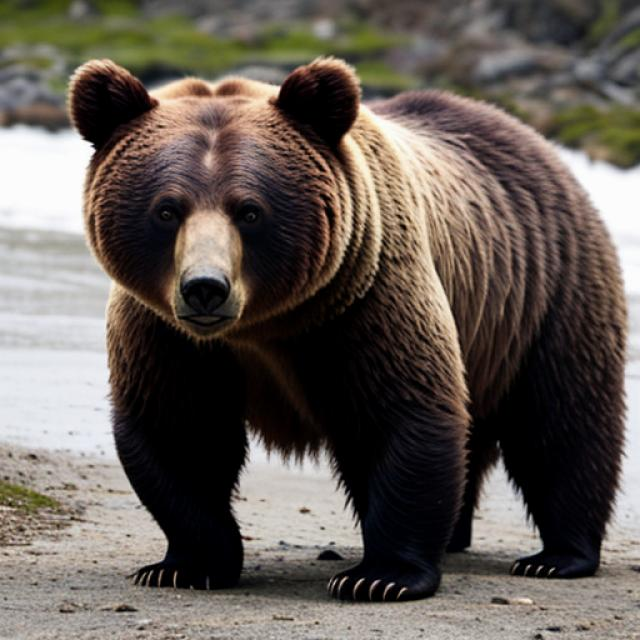bear: (84, 73, 599, 573)
